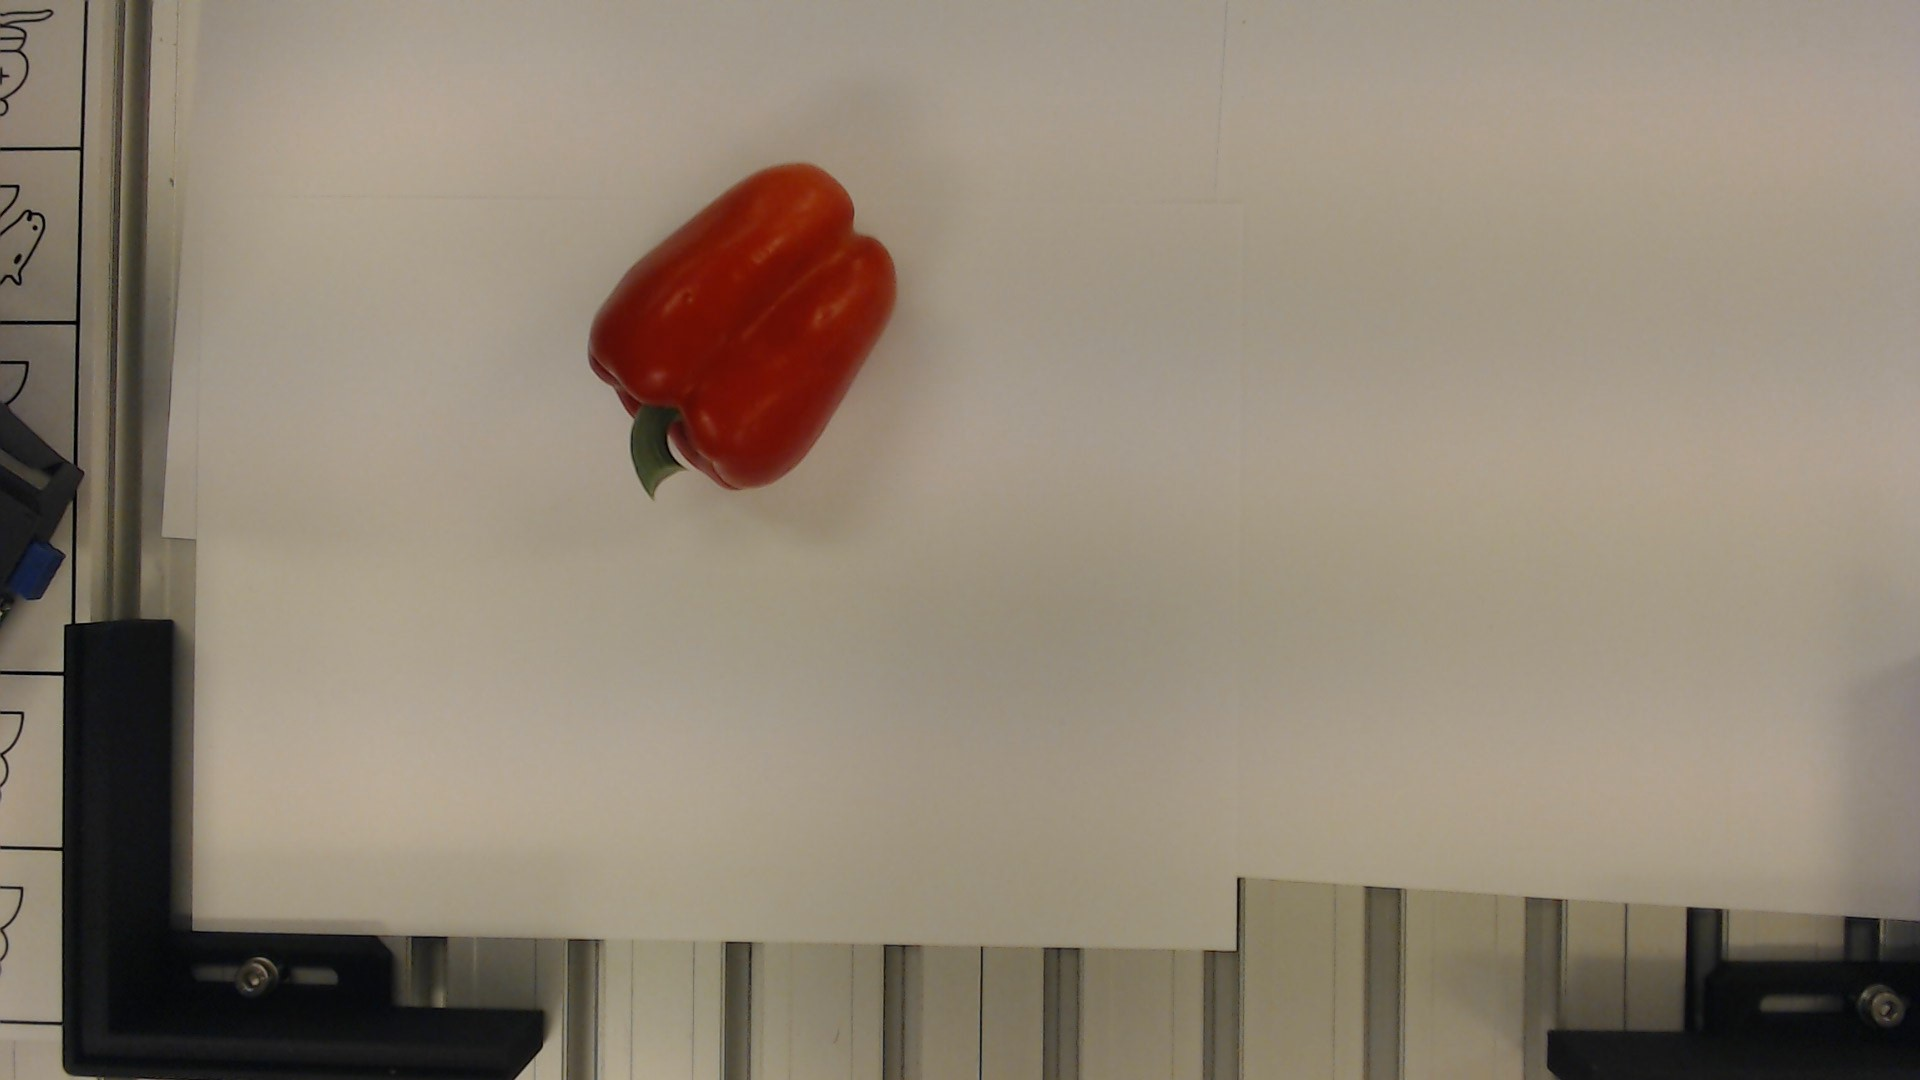Red Bell Pepper: (578, 153, 901, 506)
